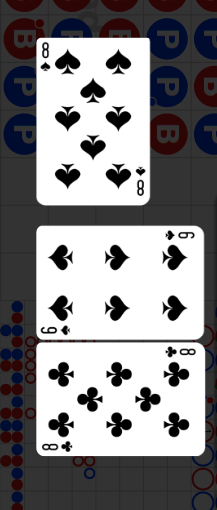6S: (163, 229, 196, 242)
8C: (41, 439, 75, 453)
8S: (40, 41, 53, 74)
